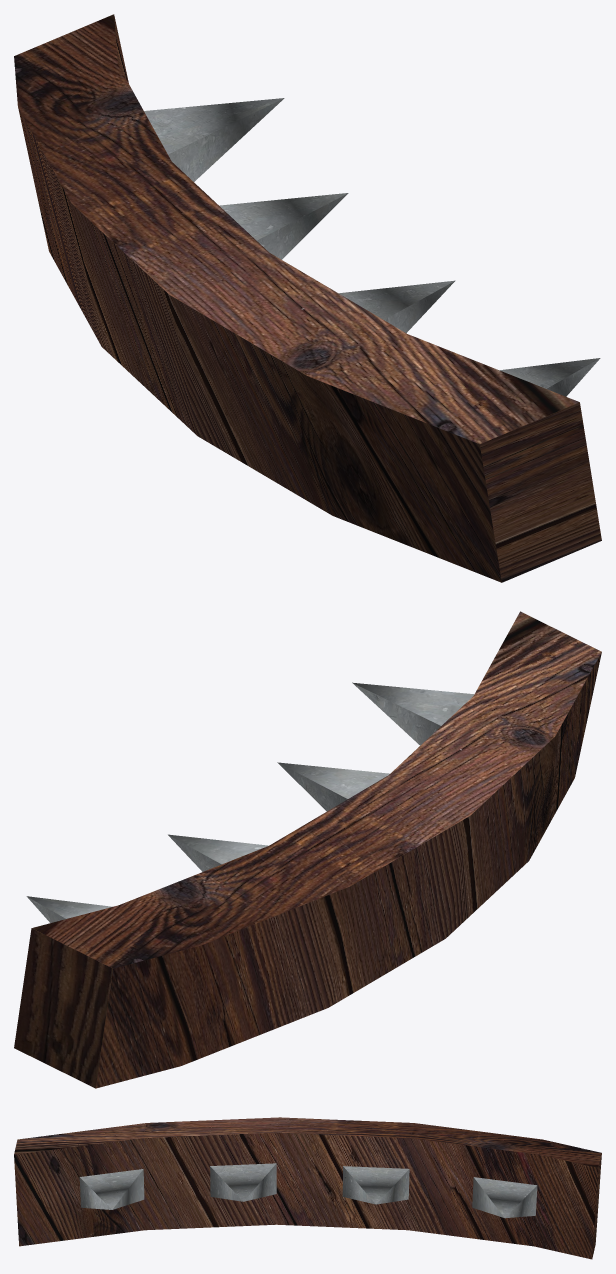
Rendered from very-pretty-spike-asset.fbx.
3 views of the same model, one above another, from view 1: azimuth 30°, elevation 25°; view 2: azimuth 150°, elevation 25°; view 3: azimuth 270°, elevation 25° (orthographic). The views are drawn at different scales.
Parts seen in each view (by area): view 1: Cylinder.003; view 2: Cylinder.003; view 3: Cylinder.003.
Part boxes in pixels (x1,y1,x2,y2): Cylinder.003: (14,14,601,582); Cylinder.003: (14,611,601,1088); Cylinder.003: (14,1117,601,1259).
Size of the model in its own units: 473 by 244 by 1352.
